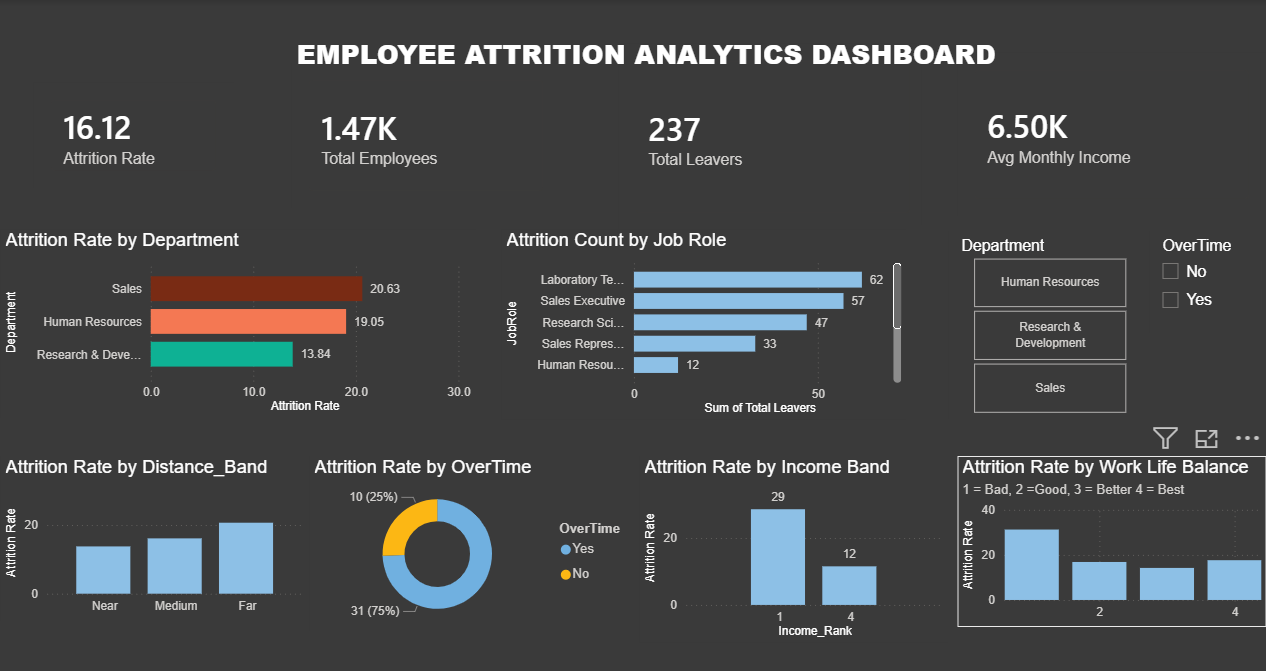

The page's visual inventory and layout, read from the dashboard file:
{"tool":"powerbi","page":{"name":"Page 1","canvas":[1280,720],"ordinal":0},"visuals":[{"type":"cardVisual","fields":{"Data":["Table1_1.Attrition Rate"]},"box":[35,83.3,201.7,106.7],"z":0},{"type":"cardVisual","title":"Total Employees","fields":{"Data":["CountNonNull(Table1_1.EmployeeCount)"]},"box":[295,63.3,271.7,146.7],"z":1000},{"type":"cardVisual","fields":{"Data":["Sum(Table1_1.Attrition_Flag)"]},"box":[625,43.3,311.7,188.3],"z":2000},{"type":"cardVisual","fields":{"Data":["Avg(Table1_1.MonthlyIncome)"]},"box":[968.3,53.3,311.7,165],"z":3000},{"type":"clusteredBarChart","fields":{"Category":["Table1_1.Department"],"Y":["Table1_1.Attrition Rate"]},"box":[1.7,231.7,480,190],"z":4000},{"type":"clusteredBarChart","title":"Attrition Count  by Job Role","fields":{"Category":["Table1_1.JobRole"],"Y":["Sum(Table1_1.Attrition_Flag)"]},"box":[506.7,231.7,408.3,191.7],"z":5000},{"type":"clusteredColumnChart","title":"Attrition Rate by Income Band","fields":{"Category":["Table1_1.Income_Rank"],"Y":["Table1_1.Attrition Rate"]},"box":[646.7,460,311.7,188.3],"z":6000},{"type":"clusteredColumnChart","fields":{"Category":["Table1_1.Distance_Band"],"Y":["Table1_1.Attrition Rate"]},"box":[1.7,460,311.7,166.7],"z":7000},{"type":"donutChart","fields":{"Category":["Table1_1.OverTime"],"Y":["Table1_1.Attrition Rate"]},"box":[313.3,460,338.3,176.7],"z":8000},{"type":"clusteredColumnChart","title":"Attrition Rate by Work Life Balance","fields":{"Category":["Table1_1.WorkLifeBalance"],"Y":["Table1_1.Attrition Rate"]},"box":[968.3,460,311.7,173.3],"z":9000},{"type":"slicer","fields":{"Values":["Table1_1.Department"]},"box":[958.3,233.3,203.3,190],"z":10000},{"type":"slicer","fields":{"Values":["Table1_1.OverTime"]},"box":[1161.7,233.3,118.3,103.3],"z":11000},{"type":"textbox","box":[181.7,30,943.3,66.7],"z":12000}]}

Visuals, with their boxes on the page's 1280x720 design canvas (x1, y1, x2, y2). These are canvas units, not pixel positions in the 1266x671 screenshot, which may show the page scaled, cropped or inside an application window:
cardVisual - Table1_1.Attrition Rate: [35,83,237,190]
"Total Employees" cardVisual: [295,63,567,210]
cardVisual - Sum(Table1_1.Attrition_Flag): [625,43,937,232]
cardVisual - Avg(Table1_1.MonthlyIncome): [968,53,1280,218]
clusteredBarChart - Table1_1.Department x Table1_1.Attrition Rate: [2,232,482,422]
"Attrition Count  by Job Role" clusteredBarChart: [507,232,915,423]
"Attrition Rate by Income Band" clusteredColumnChart: [647,460,958,648]
clusteredColumnChart - Table1_1.Distance_Band x Table1_1.Attrition Rate: [2,460,313,627]
donutChart - Table1_1.OverTime x Table1_1.Attrition Rate: [313,460,652,637]
"Attrition Rate by Work Life Balance" clusteredColumnChart: [968,460,1280,633]
slicer - Table1_1.Department: [958,233,1162,423]
slicer - Table1_1.OverTime: [1162,233,1280,337]
textbox: [182,30,1125,97]
